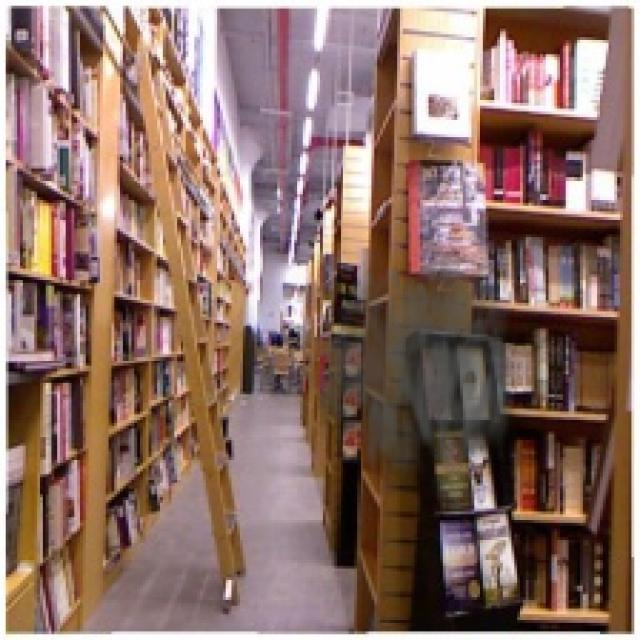smoke: (320, 235, 529, 494)
